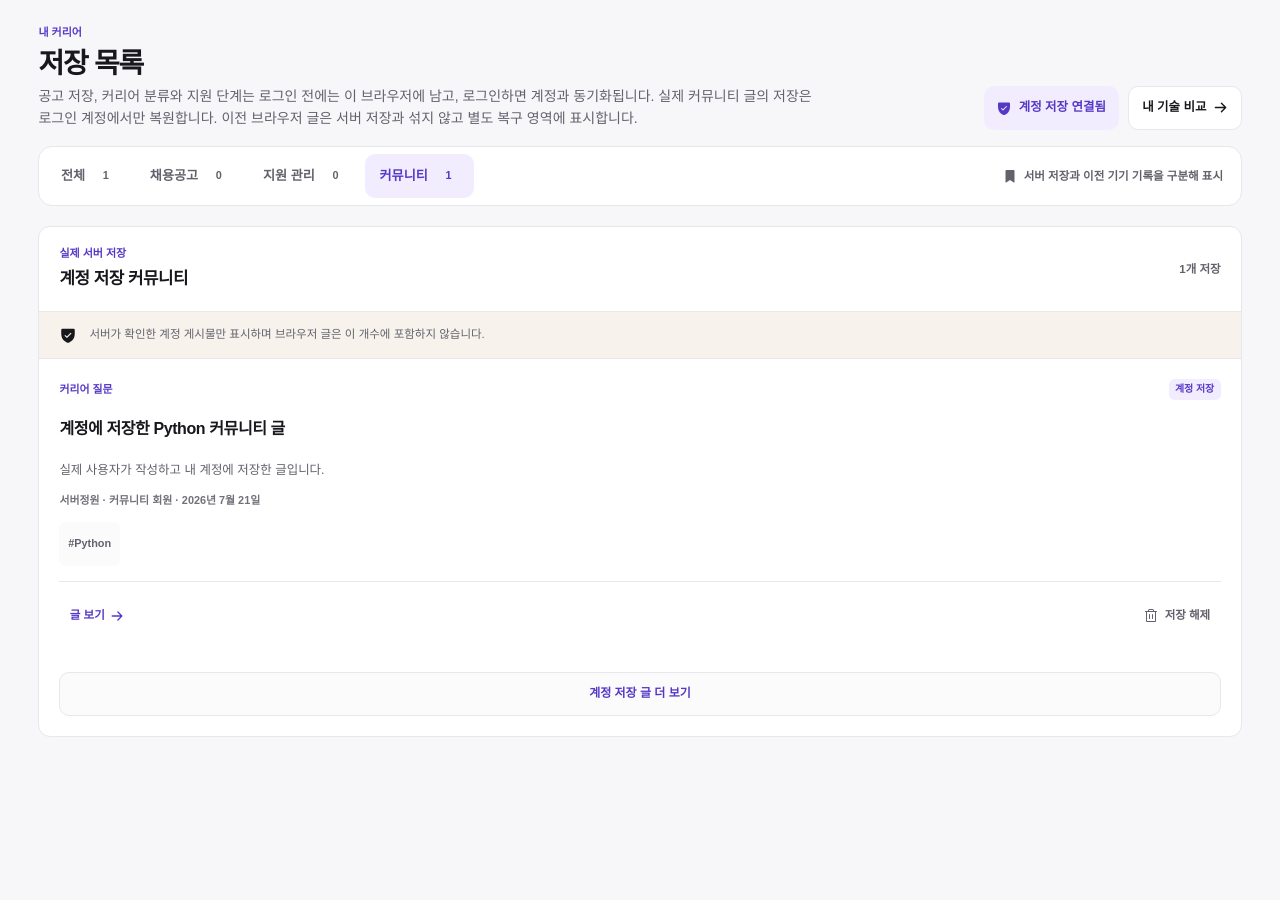
Test: SavedLibrary › loads saved community records beyond the first account page
Check: the element "계정에 저장한 Python 커뮤니티 글" is shown, box [39,359,1241,658]
Click the button "계정 저장 글 더 보기" at (640, 694), box [59,672,1221,716]
(page scrolled)
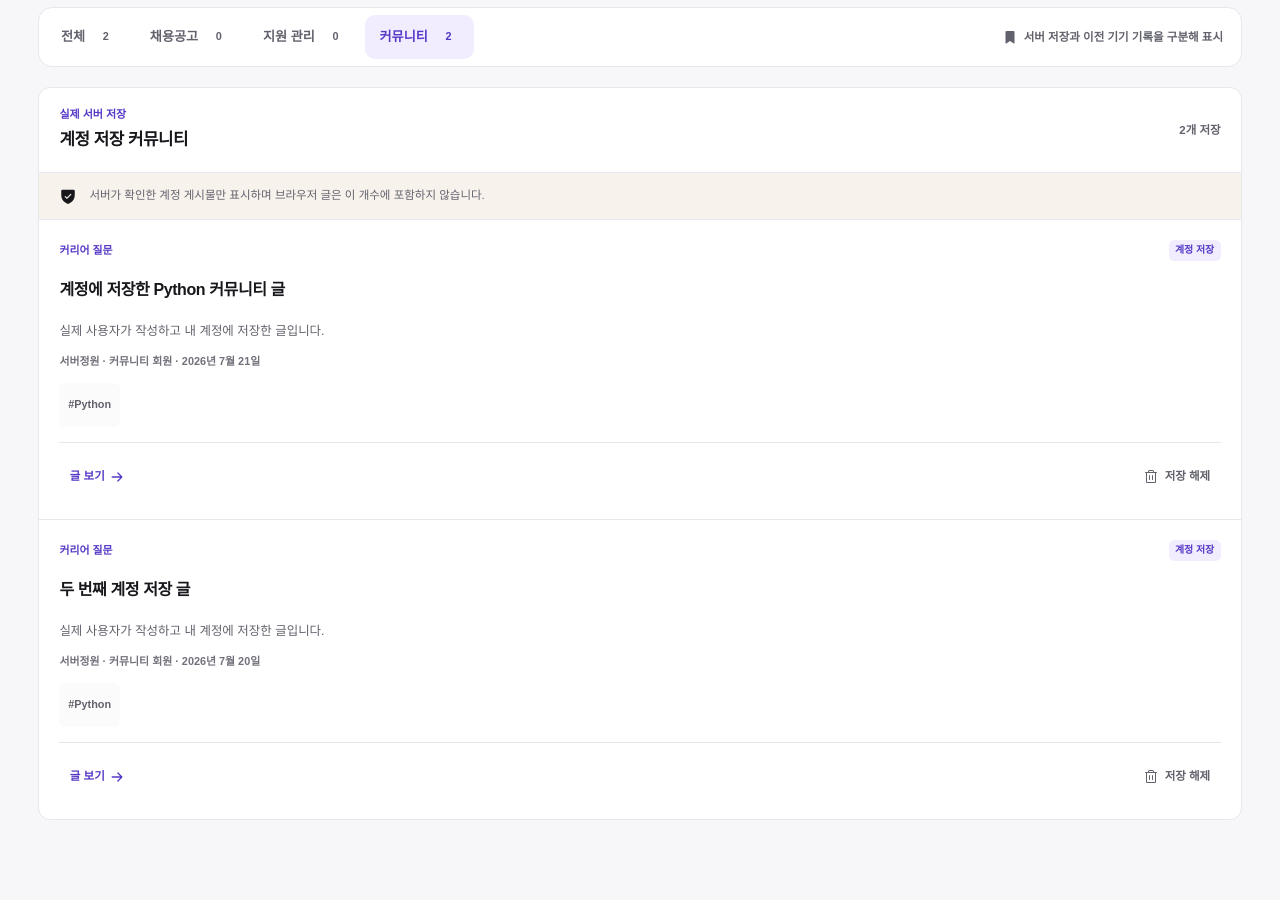
Check: the element "두 번째 계정 저장 글" is shown, box [39,518,1241,818]
